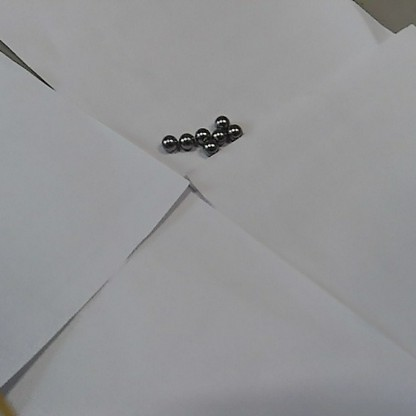ironball: (161, 134, 177, 151), (179, 133, 193, 149), (203, 137, 217, 152), (214, 114, 228, 129), (194, 127, 207, 142), (228, 123, 241, 137), (212, 130, 223, 142)
